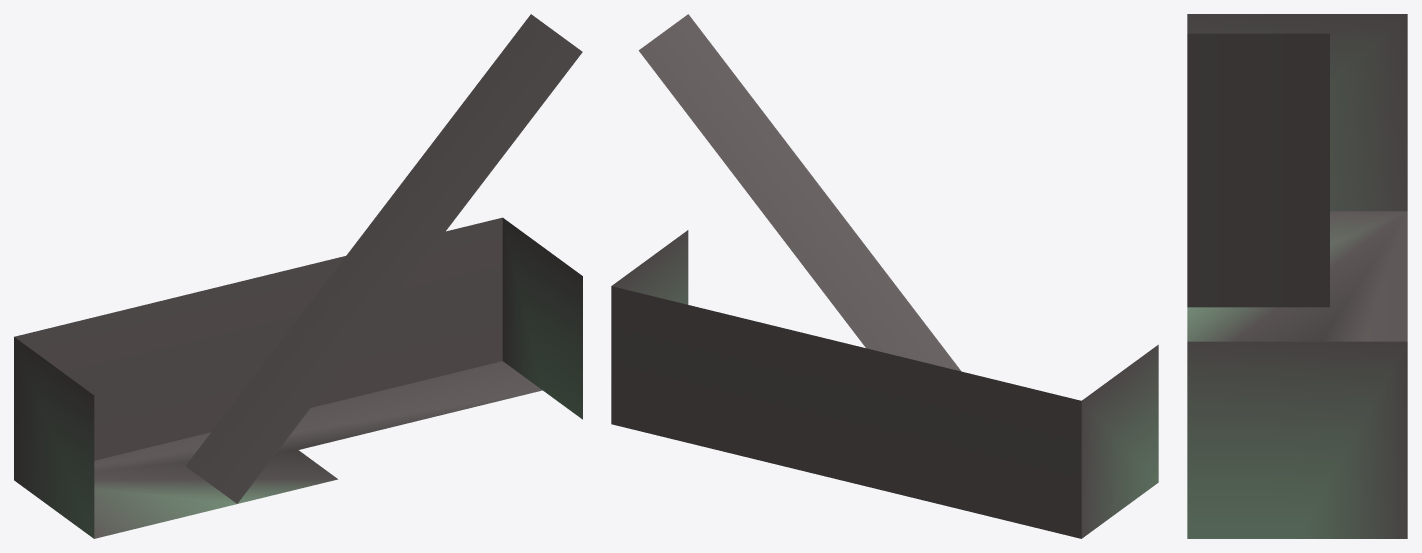
Rendered from balcony-ladder-bottom.glb.
3 views of the same model, side by side, from view 1: azimuth 30°, elevation 25°; view 2: azimuth 150°, elevation 25°; view 3: azimuth 270°, elevation 25° (orthographic). The views are drawn at different scales.
Parts seen in each view (by area): view 1: balcony-ladder-bottom; view 2: balcony-ladder-bottom; view 3: balcony-ladder-bottom.
Boxes of the visible parts, x1,y1,x2,y2 form: balcony-ladder-bottom: (14,14,582,538); balcony-ladder-bottom: (611,14,1158,538); balcony-ladder-bottom: (1187,14,1407,538).
Bounding box in the file's own units: 1 × 0.7192 × 0.2837.
